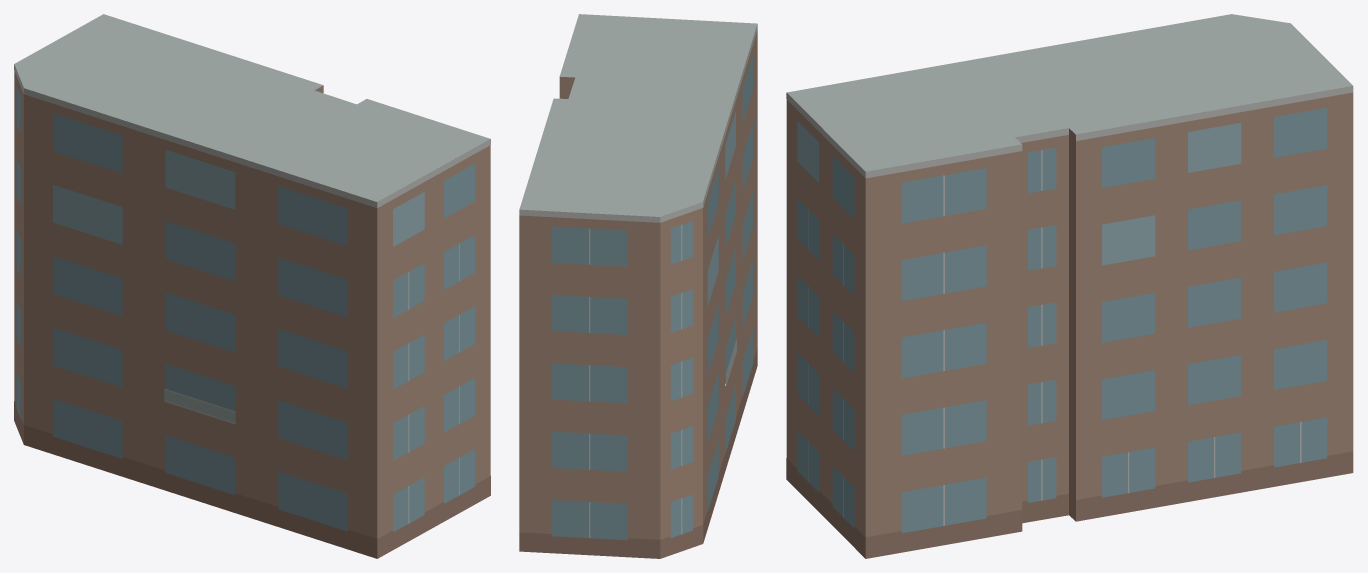
Rendered from survey-upis-32758478.glb.
3 renders of one model, left to right at view 1: azimuth 30°, elevation 25°; view 2: azimuth 150°, elevation 25°; view 3: azimuth 270°, elevation 25°, orthographic. The views are drawn at different scales.
Visible parts, largest first — view 1: survey-upis-32758478.tmp; view 2: survey-upis-32758478.tmp; view 3: survey-upis-32758478.tmp.
Part boxes in pixels (bbox=[...]): survey-upis-32758478.tmp: bbox=[14, 14, 490, 558]; survey-upis-32758478.tmp: bbox=[519, 14, 757, 558]; survey-upis-32758478.tmp: bbox=[786, 14, 1353, 558].
Bounding box in the file's own units: 12.56 × 14.35 × 19.05.
